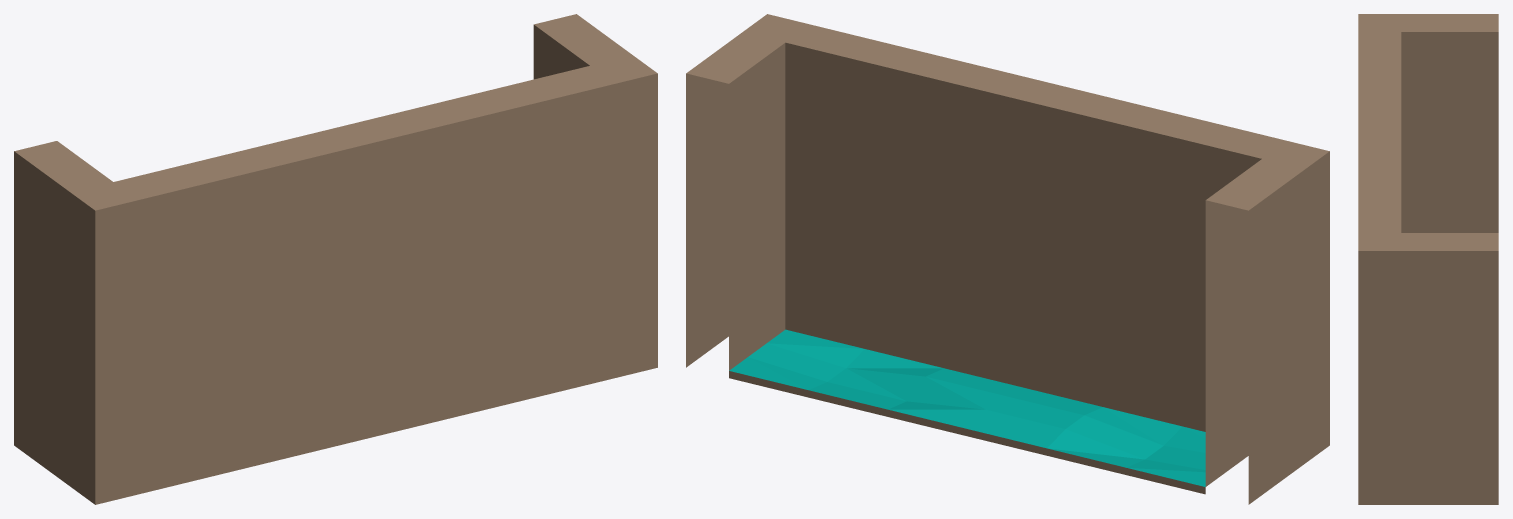
The model's file is SM_water_channels_02.glb.
3 views of the same model, side by side, from view 1: azimuth 30°, elevation 25°; view 2: azimuth 150°, elevation 25°; view 3: azimuth 270°, elevation 25° (orthographic). The views are drawn at different scales.
Visible parts, largest first — view 1: SM_water_channels_02; view 2: SM_water_channels_02; view 3: SM_water_channels_02.
Boxes of the visible parts, left/top/right/bottom form: SM_water_channels_02: left=14, top=14, right=657, bottom=504; SM_water_channels_02: left=686, top=14, right=1329, bottom=504; SM_water_channels_02: left=1358, top=14, right=1498, bottom=504.
Bounding box in the file's own units: 8 × 4 × 2.
1 material, 1 textured.
